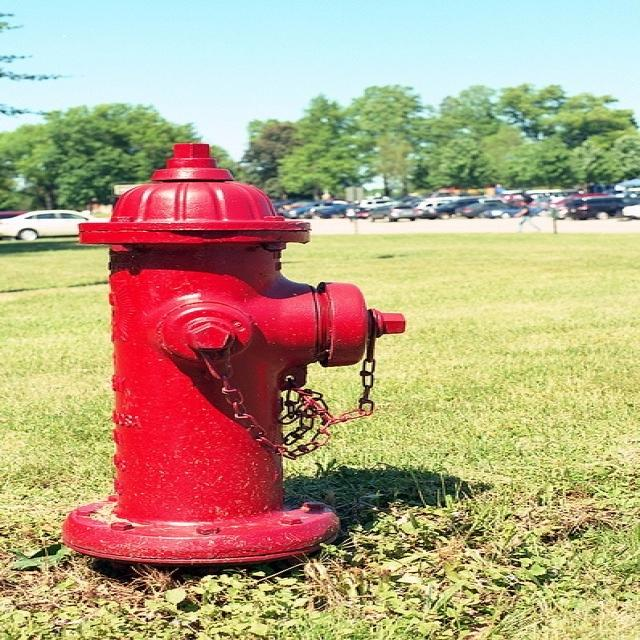fire_hydrant: (64, 166, 395, 607)
